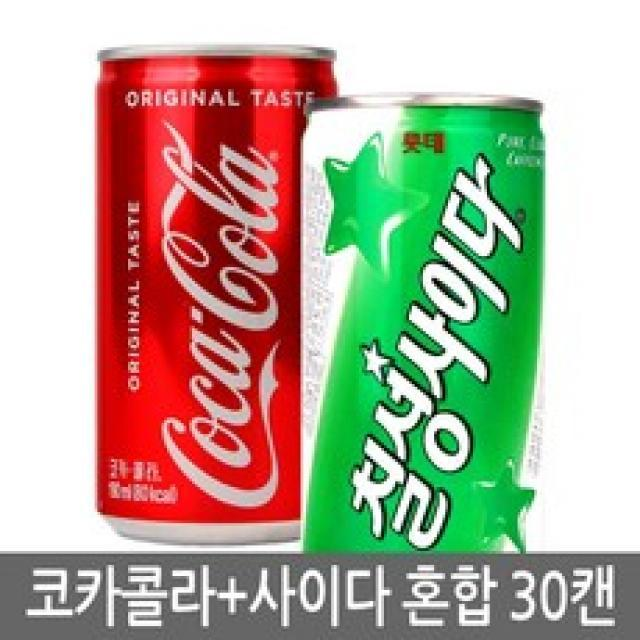coca-cola: (88, 36, 304, 544)
